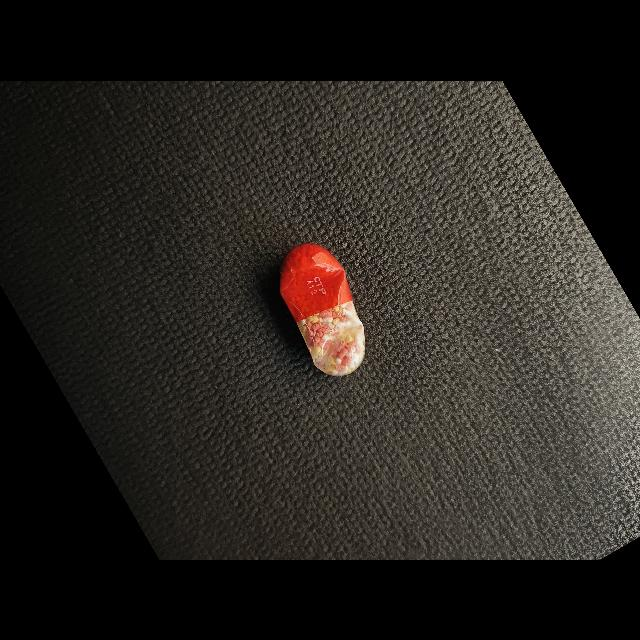Defective Capsule: (280, 242, 365, 376)
